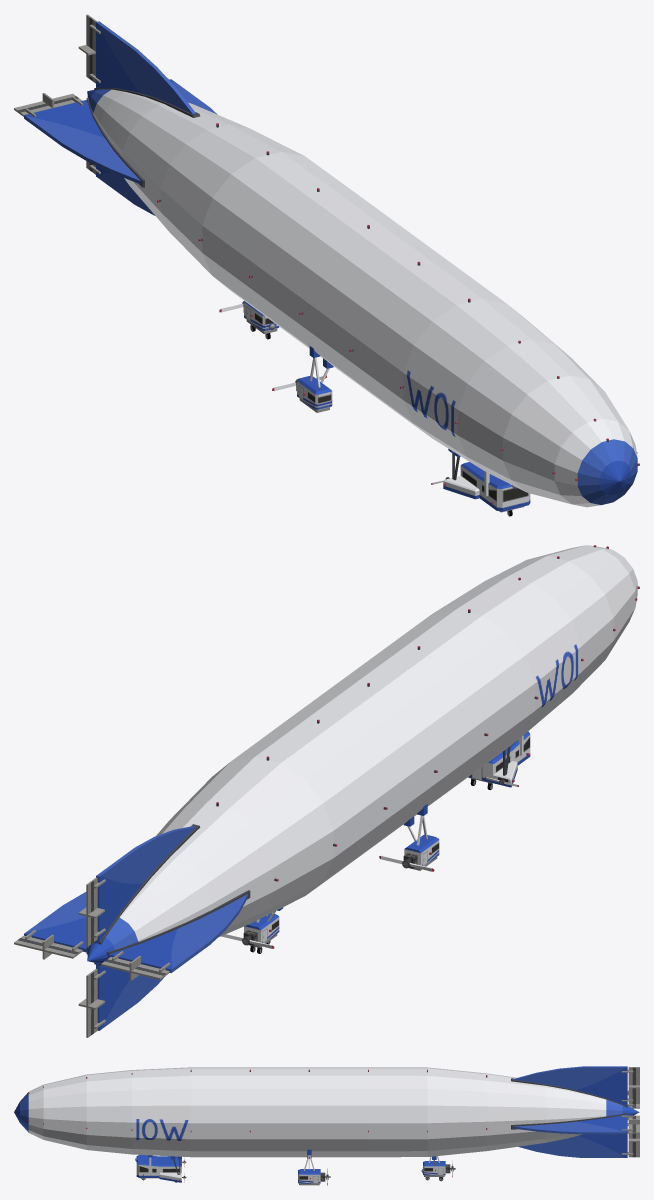
3 renders of one model, top to bottom at view 1: azimuth 30°, elevation 25°; view 2: azimuth 150°, elevation 25°; view 3: azimuth 270°, elevation 25°, orthographic. The views are drawn at different scales.
Visible parts, largest first — view 1: Airship1; view 2: Airship1; view 3: Airship1.
Part boxes in pixels (x1,y1,x2,y2): Airship1: (14,14,639,516); Airship1: (14,545,639,1037); Airship1: (14,1066,639,1185).
Bounding box in the file's own units: 484 × 549 × 2755.
Materials: 1 (1 with a texture image).
